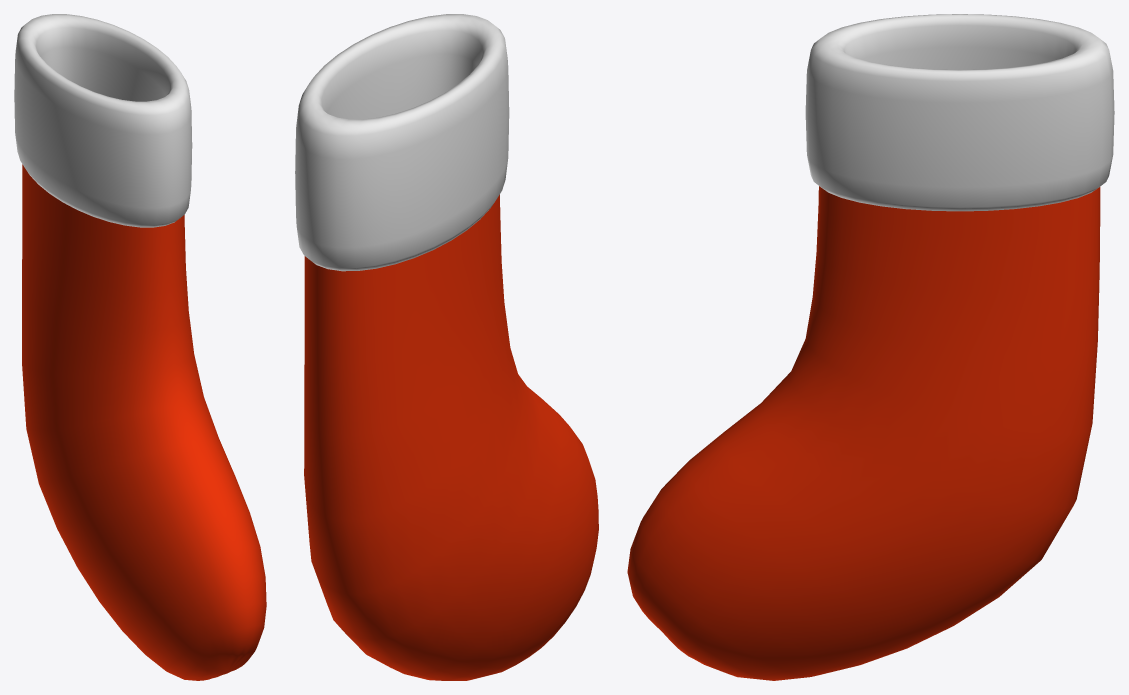
The model's file is socks.glb.
3 renders of one model, left to right at view 1: azimuth 30°, elevation 25°; view 2: azimuth 150°, elevation 25°; view 3: azimuth 270°, elevation 25°, orthographic. The views are drawn at different scales.
Visible parts, largest first — view 1: Main, whitePart; view 2: Main, whitePart; view 3: Main, whitePart.
Part boxes in pixels (x1,y1,x2,y2): Main: [22, 164, 266, 680]; whitePart: [14, 14, 192, 227]; Main: [304, 194, 598, 680]; whitePart: [295, 14, 509, 271]; Main: [627, 186, 1100, 680]; whitePart: [805, 14, 1114, 211].
Bounding box in the file's own units: 0.3298 × 1.31 × 0.9135.
